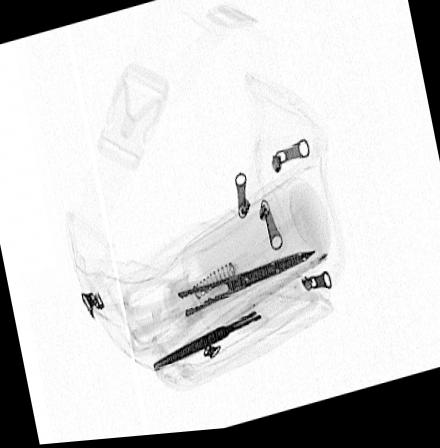Scissors: (117, 253, 315, 357), (149, 277, 318, 375)
